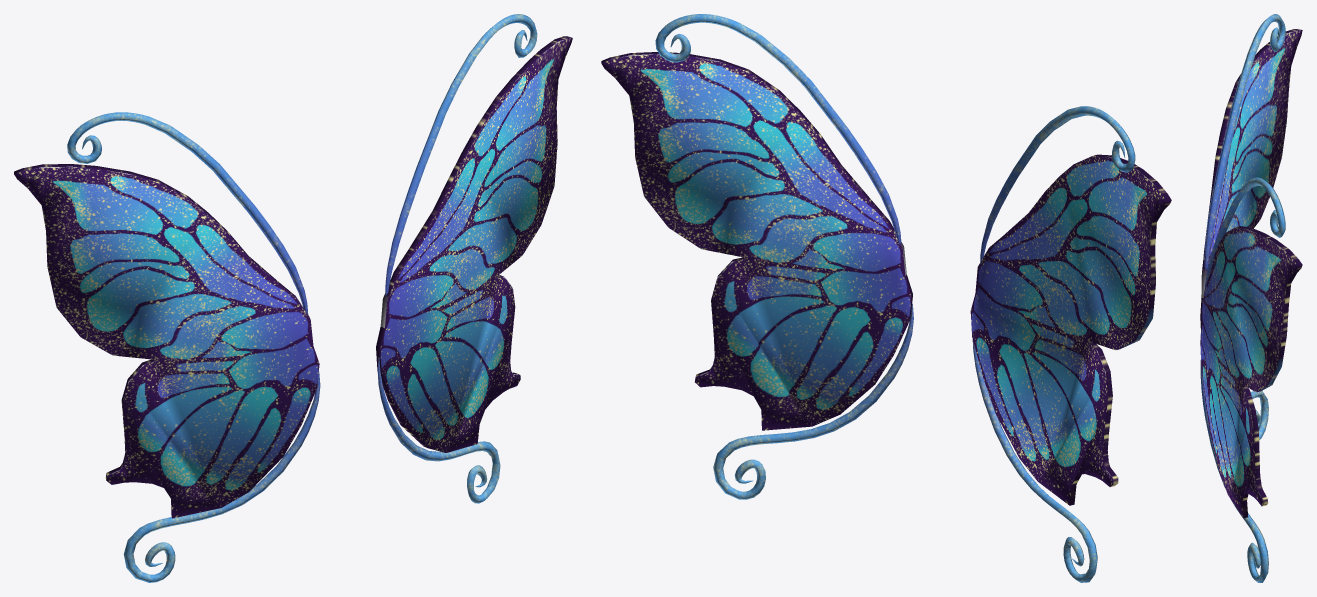
The model's file is wings.fbx.
3 renders of one model, left to right at view 1: azimuth 30°, elevation 25°; view 2: azimuth 150°, elevation 25°; view 3: azimuth 270°, elevation 25°, orthographic. The views are drawn at different scales.
Parts seen in each view (by area): view 1: ButerflyWingsNattGCat; view 2: ButerflyWingsNattGCat; view 3: ButerflyWingsNattGCat.
Boxes of the visible parts, x1,y1,x2,y2 form: ButerflyWingsNattGCat: [14, 14, 572, 582]; ButerflyWingsNattGCat: [601, 14, 1171, 582]; ButerflyWingsNattGCat: [1200, 14, 1302, 582].
Size of the model in its own units: 54.65 by 44.2 by 9.97.
